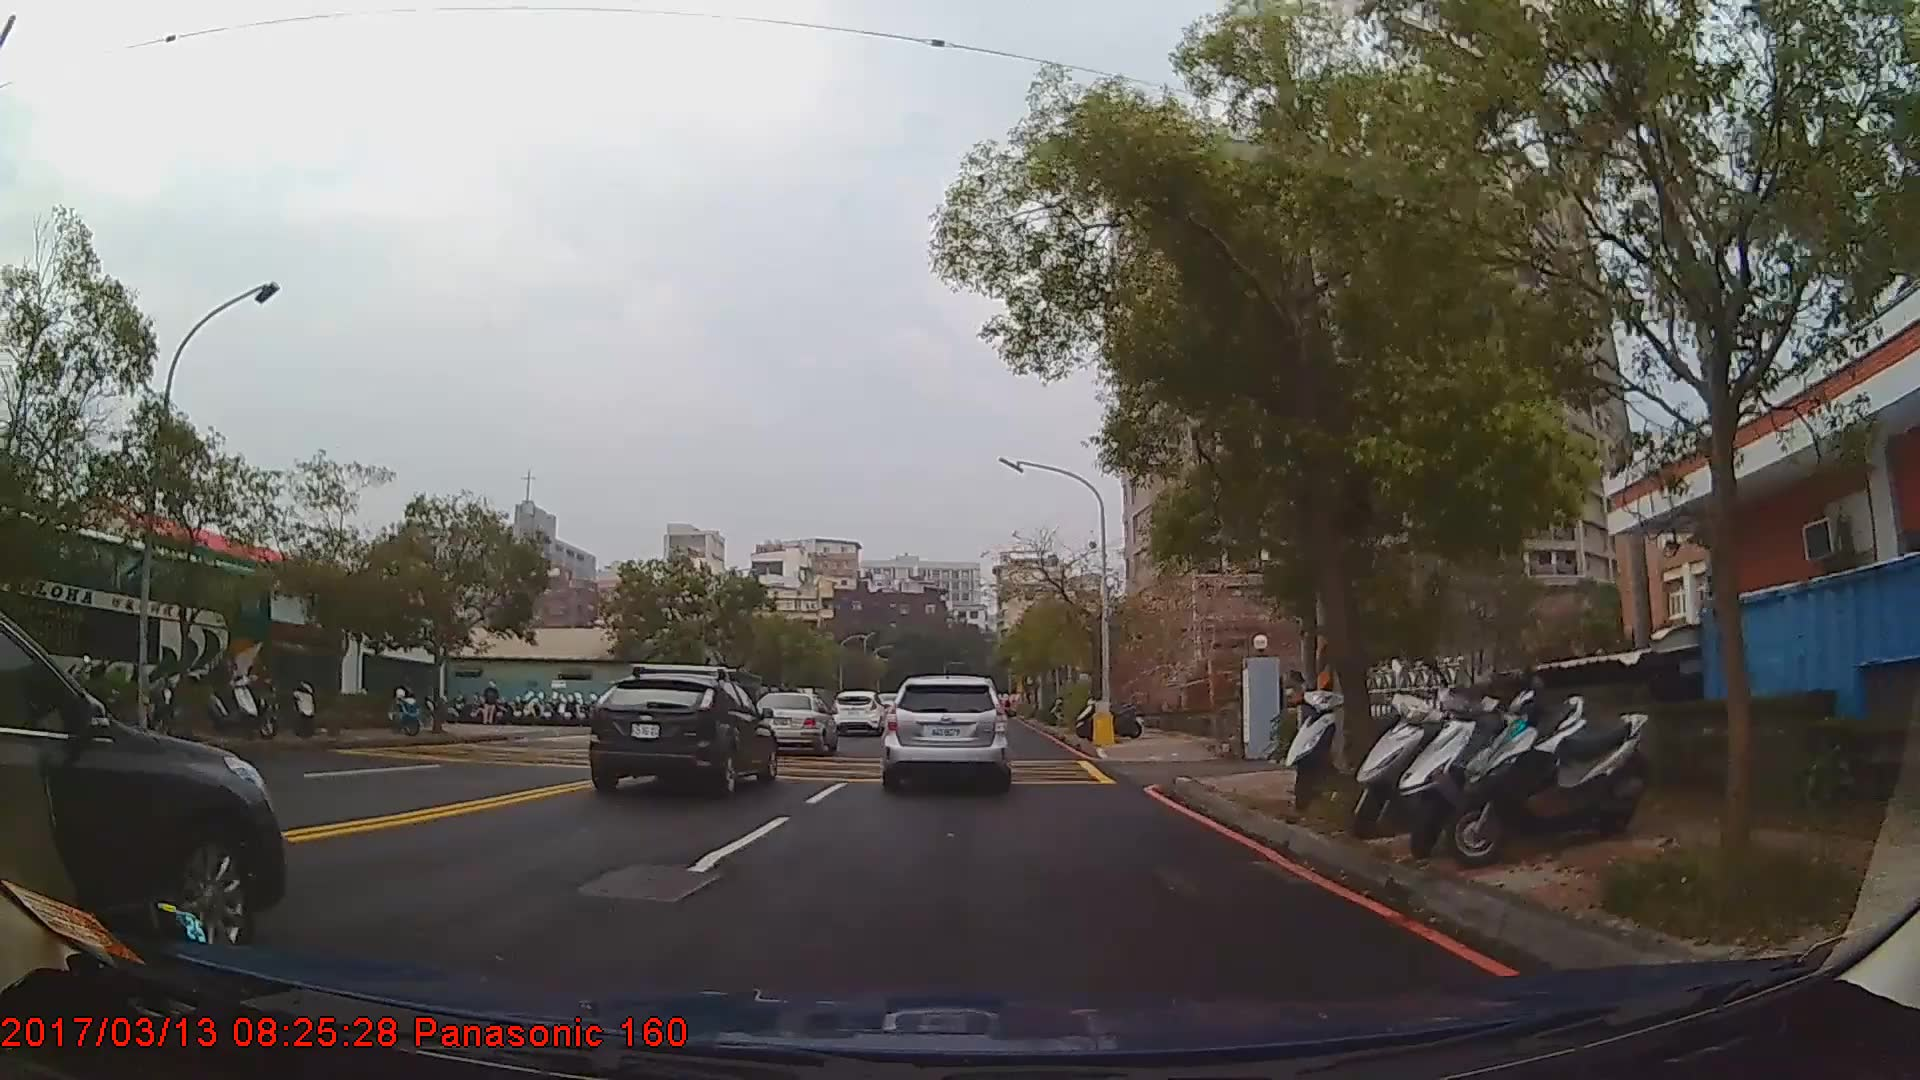vehicle: (0, 601, 285, 956), (0, 498, 266, 736), (585, 669, 775, 795), (884, 673, 1007, 789), (750, 687, 837, 753), (829, 687, 886, 733)
